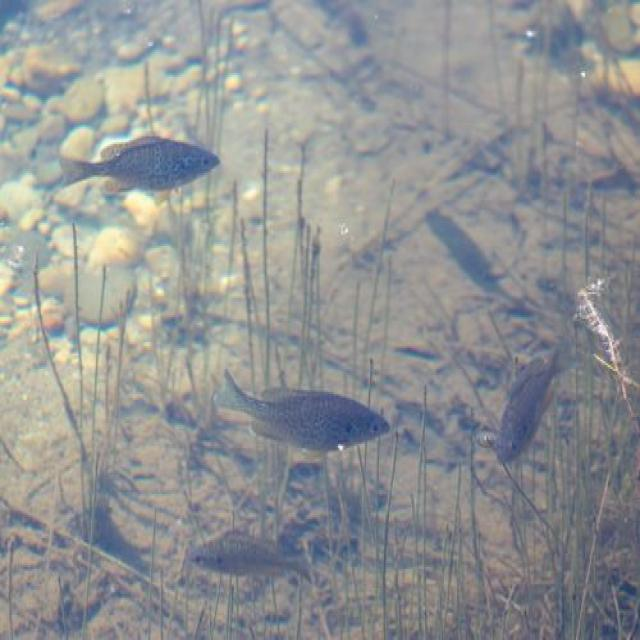Gunes Levregi: (53, 128, 247, 224)
